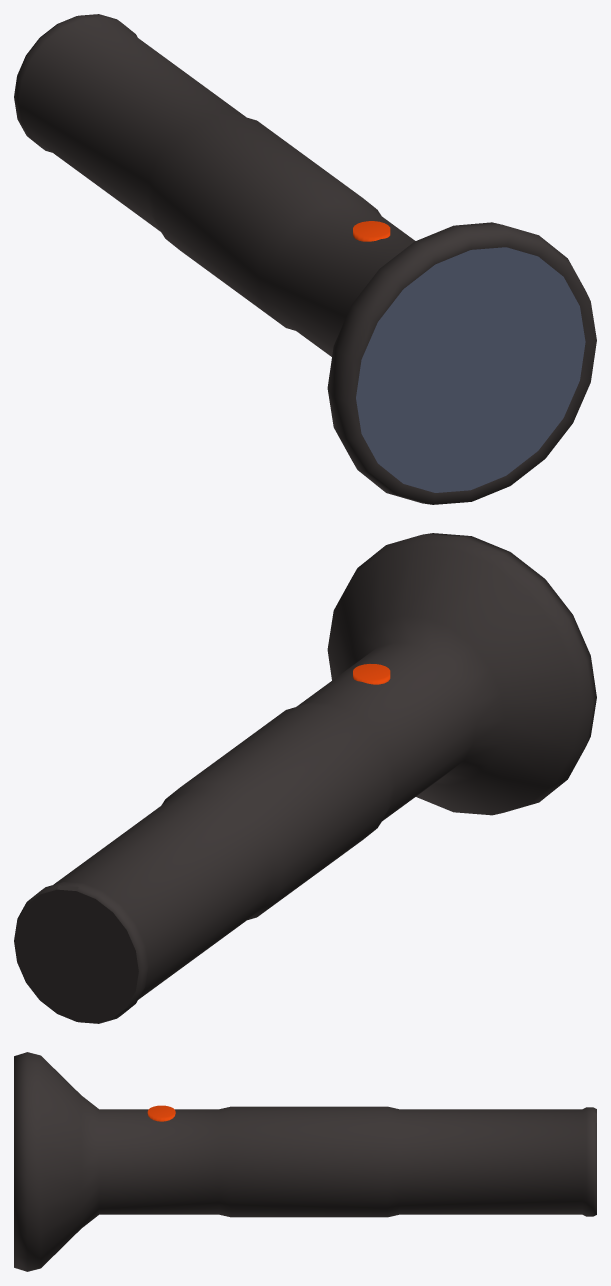
File: Torch_single_mesh.fbx
3 views of the same model, one above another, from view 1: azimuth 30°, elevation 25°; view 2: azimuth 150°, elevation 25°; view 3: azimuth 270°, elevation 25° (orthographic). The views are drawn at different scales.
Parts seen in each view (by area): view 1: Torch, Button; view 2: Torch, Button; view 3: Torch, Button.
Part boxes in pixels (x1,y1,x2,y2): Torch: [14, 14, 596, 504]; Button: [353, 221, 390, 241]; Torch: [14, 533, 596, 1023]; Button: [353, 664, 390, 684]; Torch: [14, 1052, 596, 1271]; Button: [147, 1105, 175, 1121].
Size of the model in its own units: 16.67 by 16.67 by 43.87.
